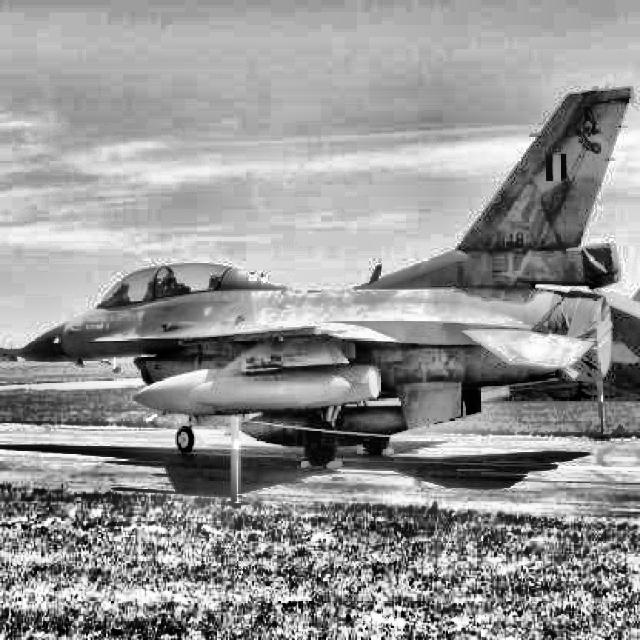F16: (0, 85, 638, 467)
